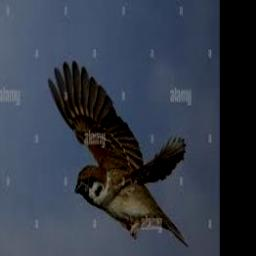Sparrow: (47, 61, 189, 249)
